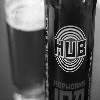beer: (44, 3, 90, 100)
